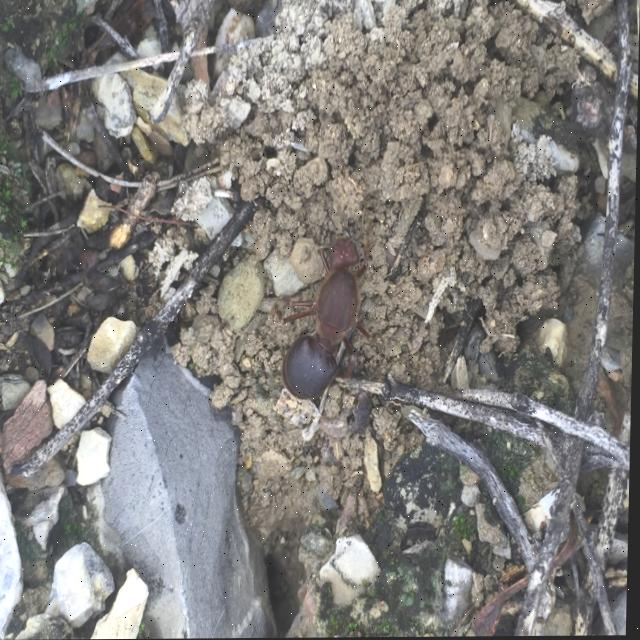Alive-Female-Dealate: (273, 220, 388, 401)
